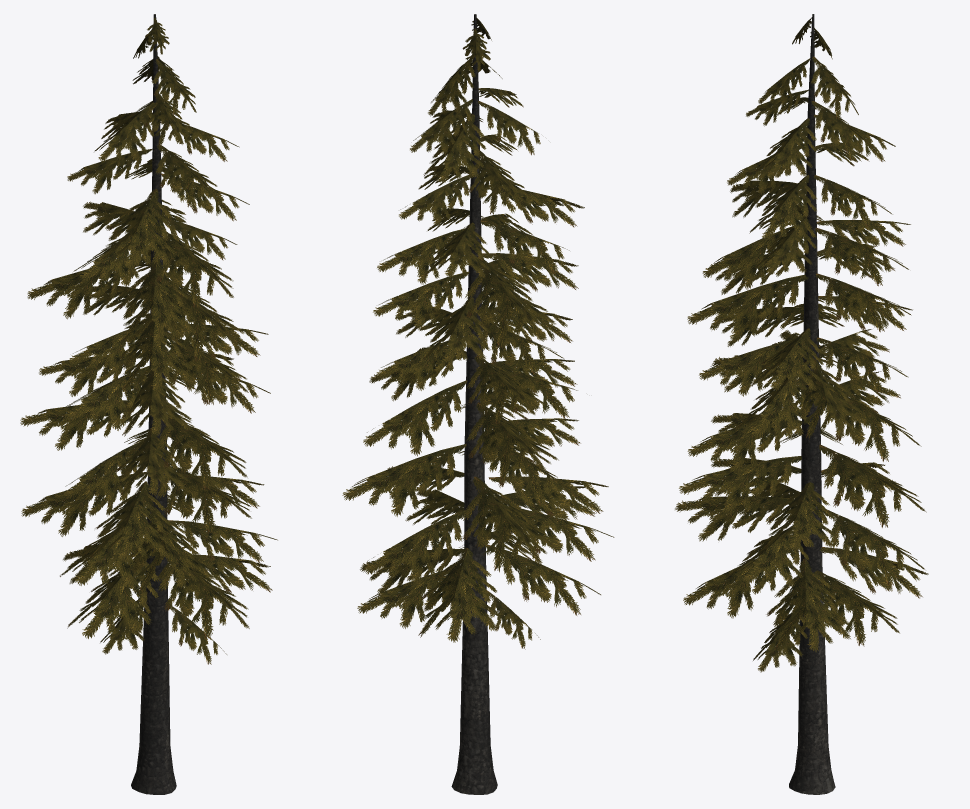
Rendered from pine_tree_n_3.obj.
3 views of the same model, side by side, from view 1: azimuth 30°, elevation 25°; view 2: azimuth 150°, elevation 25°; view 3: azimuth 270°, elevation 25° (orthographic).
Parts seen in each view (by area): view 1: pine_tree_n_3_branches, pine_tree_n_3; view 2: pine_tree_n_3_branches, pine_tree_n_3; view 3: pine_tree_n_3_branches, pine_tree_n_3.
Part boxes in pixels (x1=…): pine_tree_n_3_branches: x1=20, y1=18, x2=277, y2=664; pine_tree_n_3: x1=131, y1=14, x2=176, y2=794; pine_tree_n_3_branches: x1=342, y1=18, x2=614, y2=649; pine_tree_n_3: x1=451, y1=14, x2=497, y2=794; pine_tree_n_3_branches: x1=675, y1=17, x2=928, y2=672; pine_tree_n_3: x1=789, y1=14, x2=835, y2=794.
Size of the model in its own units: 3.39 by 10.11 by 3.57.
